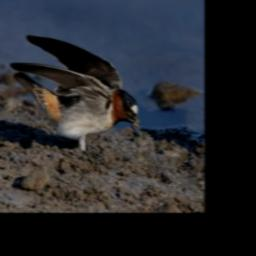Swallow: (9, 34, 139, 164)
